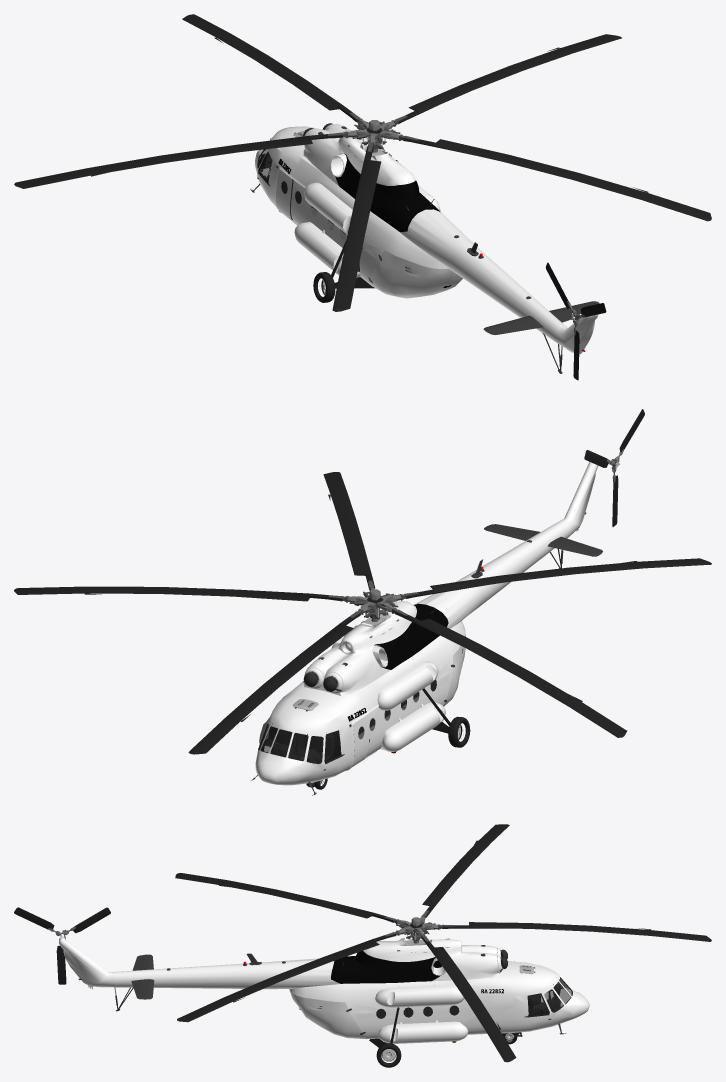
The picture shows the model from 3 angles, top to bottom: view 1: azimuth 30°, elevation 25°; view 2: azimuth 150°, elevation 25°; view 3: azimuth 270°, elevation 25°; orthographic projection. The views are drawn at different scales.
Parts seen in each view (by area): view 1: object 12, root, object 28, object 24, Gruppe#5, object 13, object 30, object 22; view 2: object 12, root, object 28, object 24, glass, object 14, object 30, object 13, object 19; view 3: root, object 28, object 12, Gruppe#5, object 29, object 25, object 30, glass, object 13, Gruppe#12, object 14, object 19.
Boxes of the visible parts, x1,y1,x2,y2 form: object 12: (14,14,711,311); root: (250,124,599,373); object 28: (255,126,448,285); object 24: (294,182,365,277); Gruppe#5: (370,250,452,298); object 13: (545,262,606,380); object 30: (554,314,598,354); object 22: (276,169,292,221); object 12: (14,472,711,754); root: (251,512,602,795); object 28: (255,621,465,785); object 24: (377,661,445,751); glass: (258,680,436,763); object 14: (260,695,418,762); object 30: (561,462,611,537); object 13: (584,409,644,526); object 19: (258,701,406,764); root: (78,938,566,1042); object 28: (289,961,589,1039); object 12: (175,824,711,1062); Gruppe#5: (289,990,366,1038); object 29: (375,983,464,1007); object 25: (378,1020,468,1043); object 30: (59,934,115,987); glass: (376,977,572,1018); object 13: (14,907,110,984); Gruppe#12: (376,1043,401,1067); object 14: (406,966,560,1015); object 19: (376,977,572,1018).
Bounding box in the file's own units: 50.97 × 12.72 × 63.2.
Materials: 19 (1 with a texture image).
